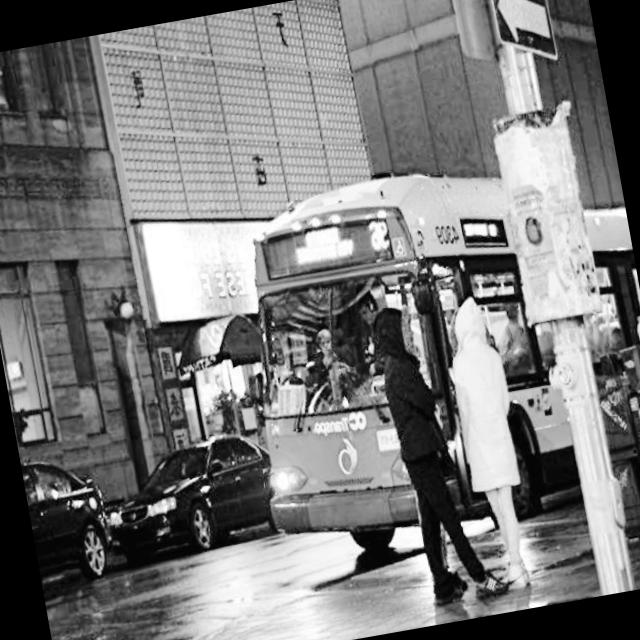Bus: (205, 130, 640, 583)
Car: (91, 412, 300, 586), (20, 444, 130, 590)
